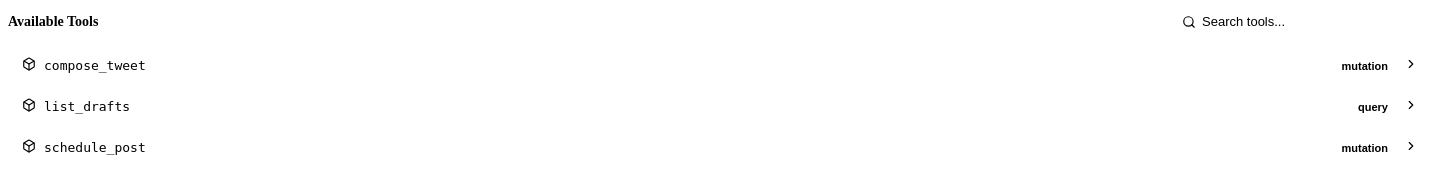
Test: McpToolBrowser › filters tools by search query
Type "list_drafts" into the field with class "search".
click(1302, 22); type("list_drafts")  # box [1172,8,1432,35]
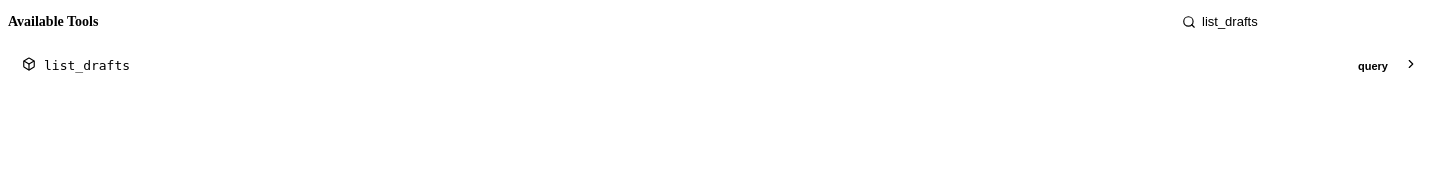
Expected: the text "list_drafts" is shown, [44,58,130,73]
Now the text "compose_tweet" is gone
